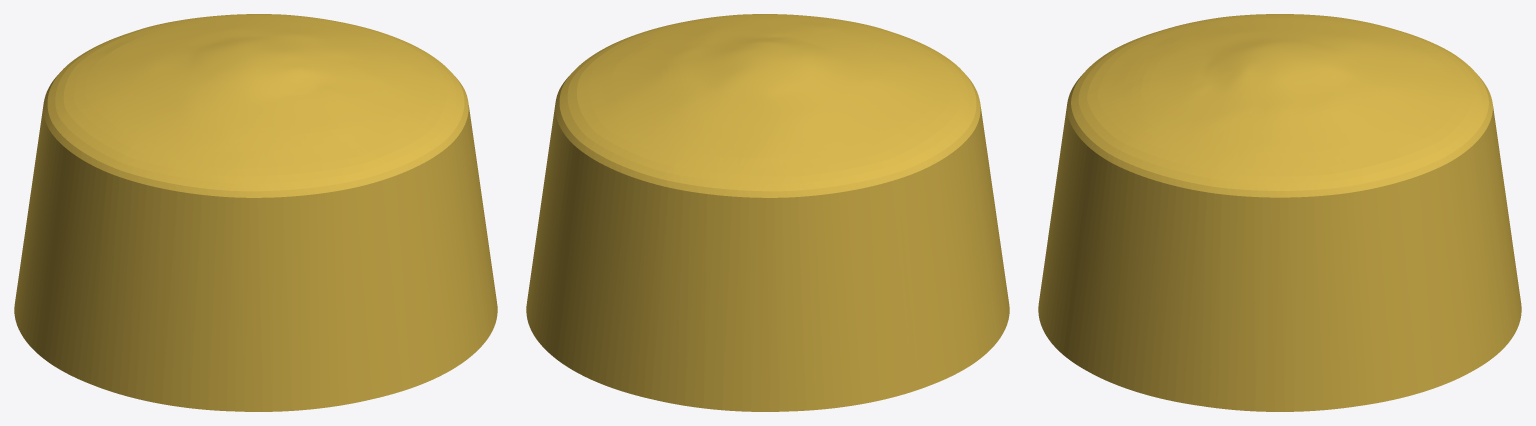
The model's file is Island.fbx.
3 views of the same model, side by side, from view 1: azimuth 30°, elevation 25°; view 2: azimuth 150°, elevation 25°; view 3: azimuth 270°, elevation 25° (orthographic).
Parts seen in each view (by area): view 1: Island.001; view 2: Island.001; view 3: Island.001.
Part boxes in pixels (x1,y1,x2,y2): Island.001: [14, 14, 497, 411]; Island.001: [526, 14, 1009, 411]; Island.001: [1038, 14, 1521, 411].
Size of what is drawn, in the model's own units: 6598 by 3800 by 6599.
